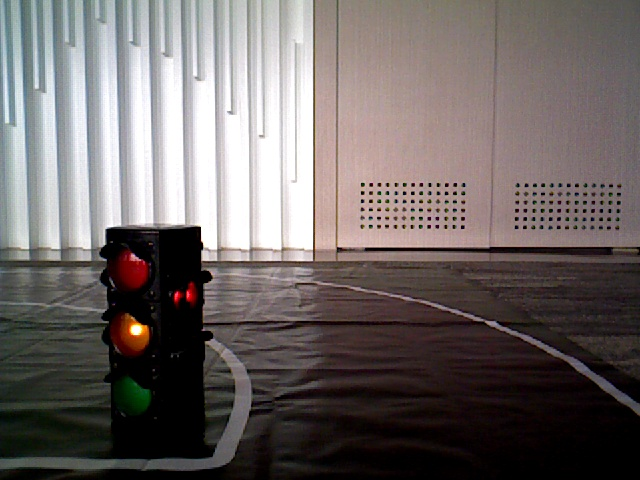yellow: (107, 231, 173, 428)
